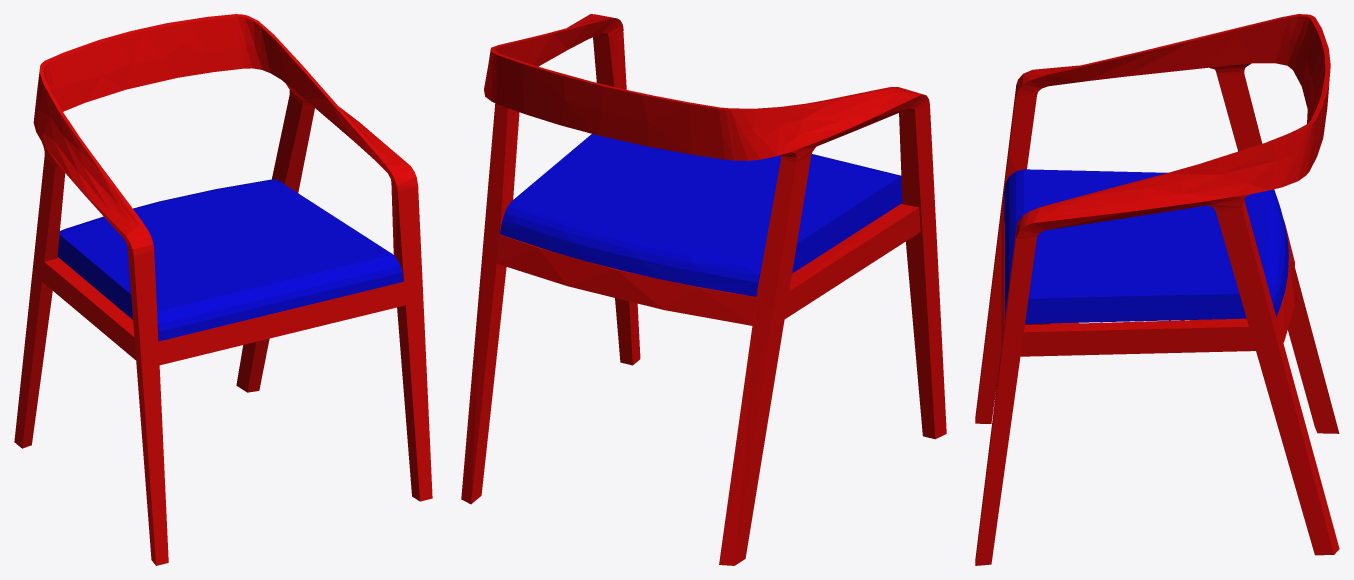
File: mv_LoungeChair.fbx
3 renders of one model, left to right at view 1: azimuth 30°, elevation 25°; view 2: azimuth 150°, elevation 25°; view 3: azimuth 270°, elevation 25°, orthographic. The views are drawn at different scales.
Parts seen in each view (by area): view 1: LoungeChair; view 2: LoungeChair; view 3: LoungeChair.
Part boxes in pixels (box(x1,y1,x2,y2)): LoungeChair: box(14, 14, 432, 565); LoungeChair: box(461, 14, 946, 565); LoungeChair: box(975, 14, 1339, 565).
Size of the model in its own units: 59.34 by 76.42 by 59.42.
